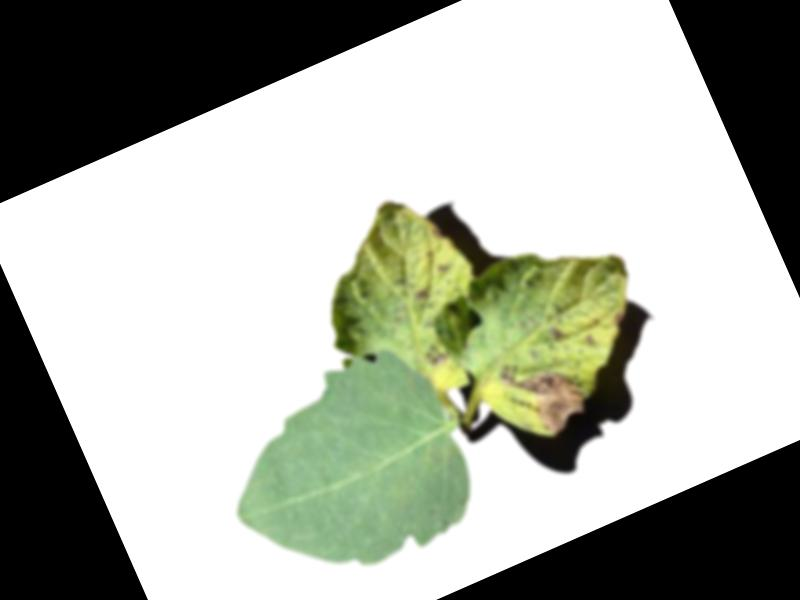Early_blight: (493, 338, 595, 447), (419, 339, 450, 372), (604, 307, 627, 330), (408, 285, 428, 302), (546, 321, 563, 339), (427, 223, 442, 241), (434, 261, 449, 276)
